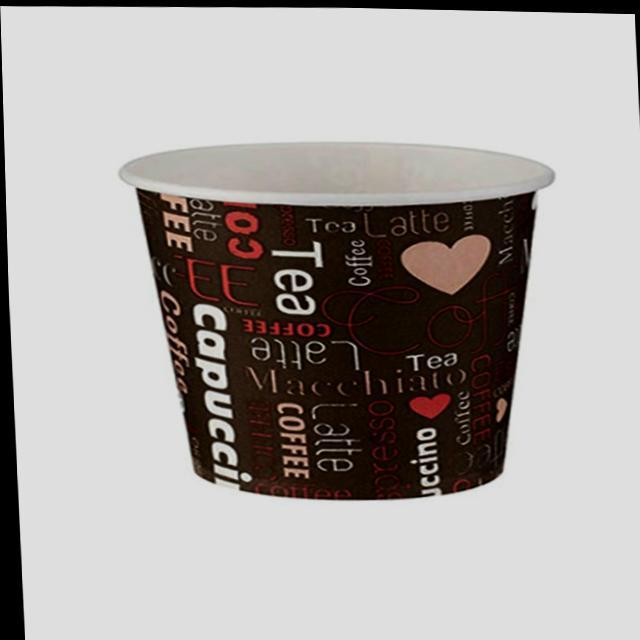cup: (98, 132, 588, 510)
